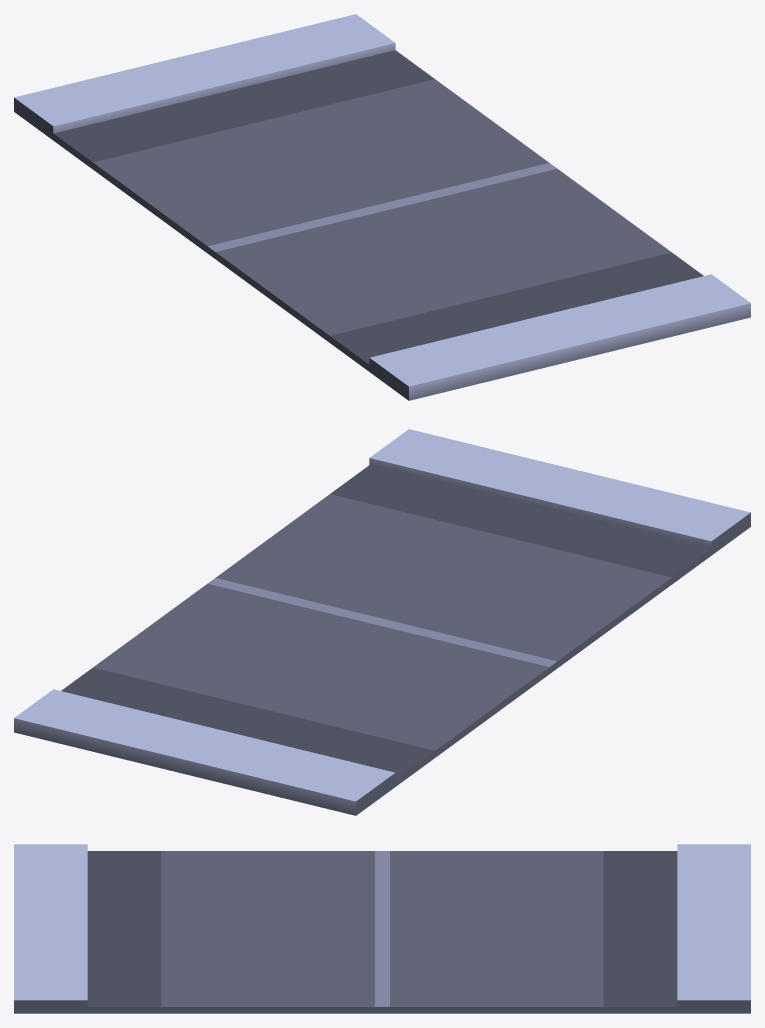
Rendered from road-straight-half.glb.
The picture shows the model from 3 angles, top to bottom: view 1: azimuth 30°, elevation 25°; view 2: azimuth 150°, elevation 25°; view 3: azimuth 270°, elevation 25°; orthographic projection. The views are drawn at different scales.
Visible parts, largest first — view 1: road-straight-half; view 2: road-straight-half; view 3: road-straight-half.
Boxes of the visible parts, x1,y1,x2,y2 form: road-straight-half: [14, 14, 750, 400]; road-straight-half: [14, 429, 750, 815]; road-straight-half: [14, 844, 750, 1013].
Size of the model in its own units: 0.5 by 0.02 by 1.
1 material, 1 textured.
